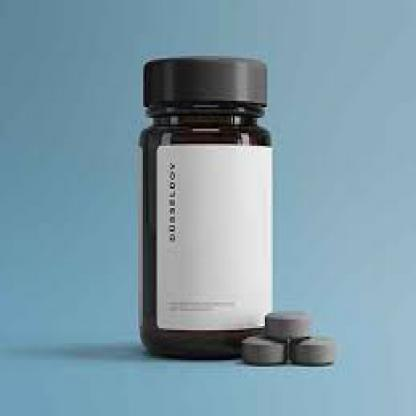jar: (140, 56, 272, 358)
